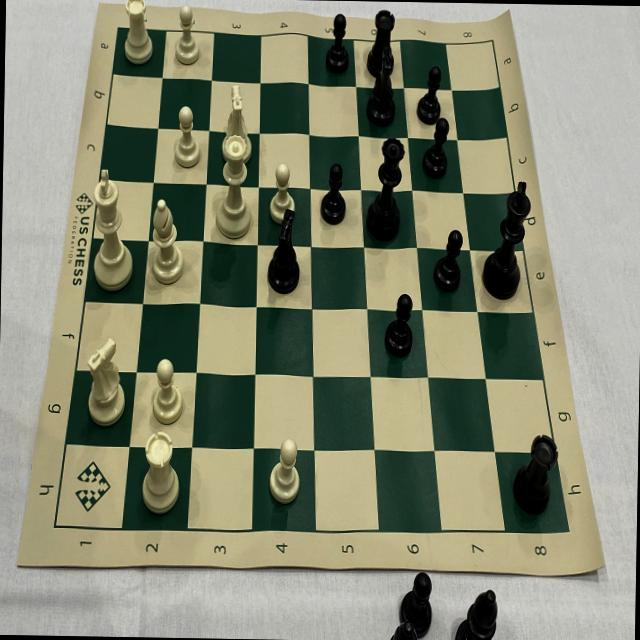black-king: (476, 176, 534, 304)
black-knight: (262, 205, 306, 296), (360, 45, 402, 129)
black-pawn: (382, 288, 418, 360), (432, 220, 465, 298), (315, 159, 349, 227), (321, 8, 354, 78), (421, 114, 452, 184), (415, 63, 446, 128)
black-queen: (359, 136, 408, 246)
black-rook: (508, 418, 560, 518), (362, 4, 396, 76)
white-bishop: (144, 192, 188, 290)
white-king: (82, 165, 136, 298)
white-pawn: (264, 432, 302, 511), (148, 354, 186, 428), (169, 101, 206, 174), (264, 158, 298, 227), (169, 1, 202, 67)
white-queen: (210, 132, 258, 242)
white-rook: (79, 332, 130, 431), (132, 425, 184, 517), (217, 76, 257, 165), (114, 0, 157, 67)
